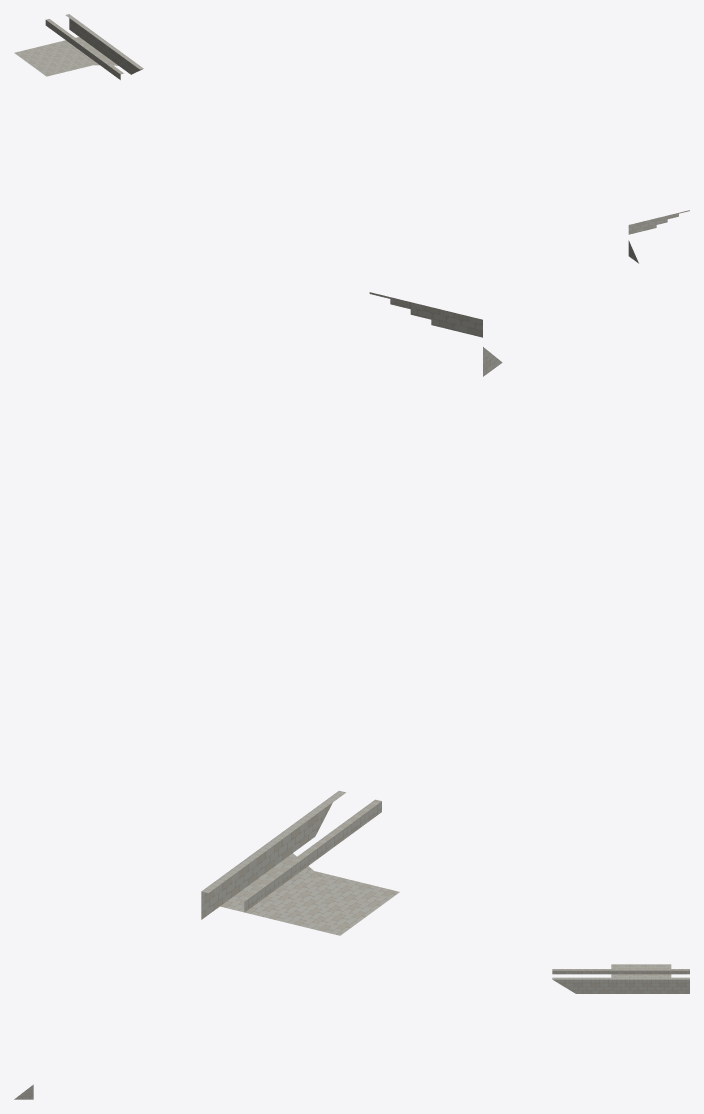
File: kd_stage_135ebf_1_9.glb
3 views of the same model, one above another, from view 1: azimuth 30°, elevation 25°; view 2: azimuth 150°, elevation 25°; view 3: azimuth 270°, elevation 25° (orthographic). The views are drawn at different scales.
Parts seen in each view (by area): view 1: kd_stage_135ebf_1_9; view 2: kd_stage_135ebf_1_9; view 3: kd_stage_135ebf_1_9.
Part boxes in pixels (bbox=[...]): kd_stage_135ebf_1_9: bbox=[14, 14, 689, 263]; kd_stage_135ebf_1_9: bbox=[201, 292, 502, 935]; kd_stage_135ebf_1_9: bbox=[14, 964, 689, 1099].
Size of the model in its own units: 17.79 by 1.6 by 34.27.
Materials: 1 (1 with a texture image).
